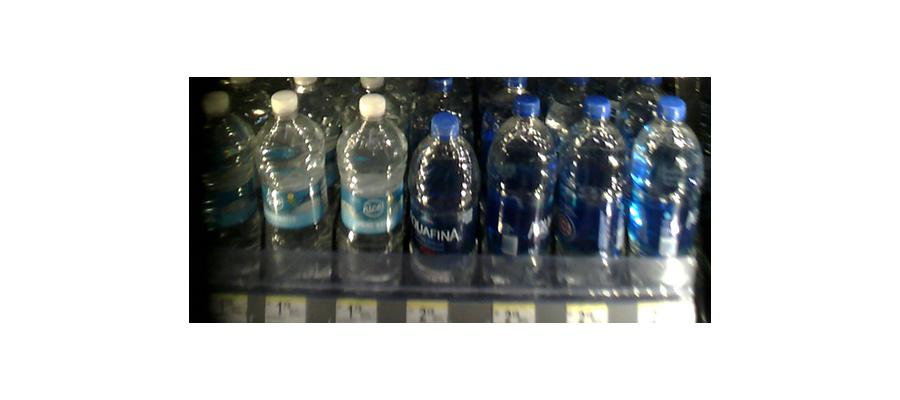bottle: (256, 86, 331, 288), (485, 91, 555, 294), (629, 94, 698, 298), (558, 91, 626, 296), (335, 94, 403, 292), (408, 111, 480, 295), (191, 89, 256, 288)
